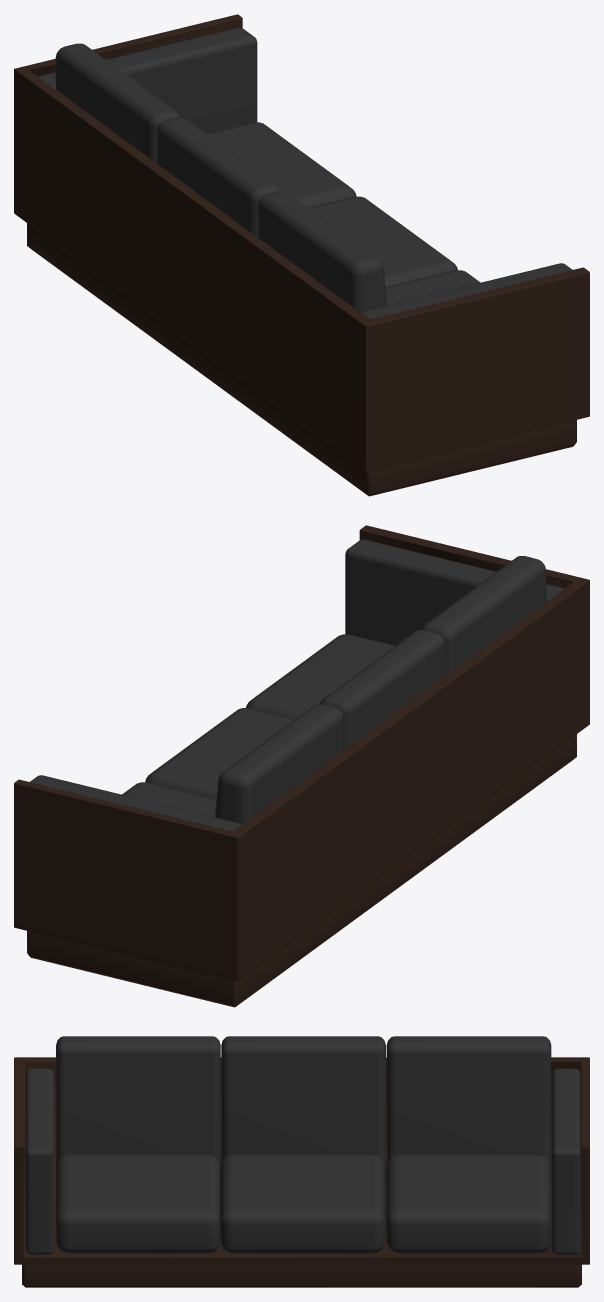
File: Couch.fbx
3 views of the same model, one above another, from view 1: azimuth 30°, elevation 25°; view 2: azimuth 150°, elevation 25°; view 3: azimuth 270°, elevation 25° (orthographic). The views are drawn at different scales.
Parts seen in each view (by area): view 1: Couch; view 2: Couch; view 3: Couch.
Part boxes in pixels (left/top/right/bottom): Couch: left=14, top=14, right=589, bottom=496; Couch: left=14, top=525, right=589, bottom=1007; Couch: left=14, top=1036, right=589, bottom=1287.
Bounding box in the file's own units: 0.00736 × 0.00671 × 0.02.
